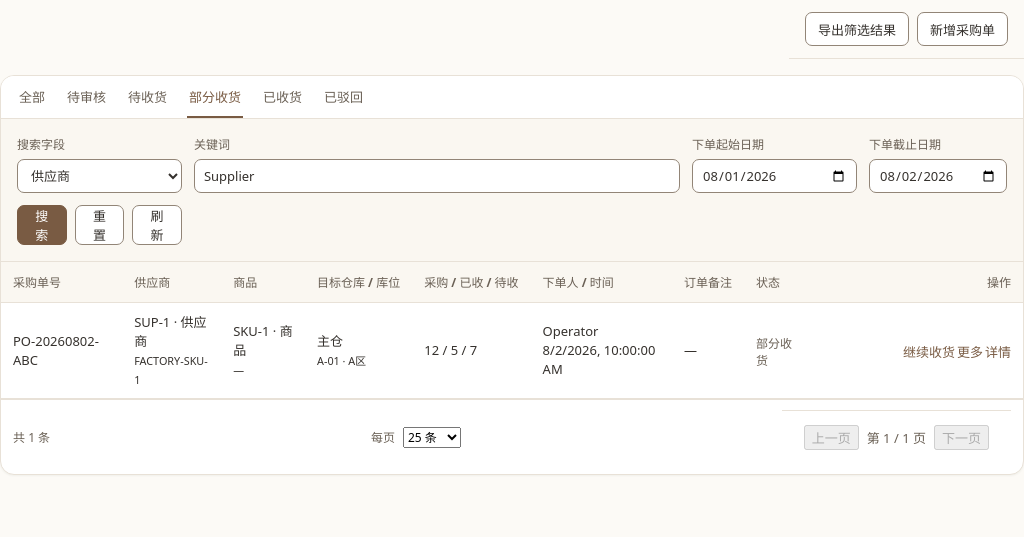
Test: procurement order page › exports the complete filtered result and announces success
This screenshot has width=1024, height=537.
Click the button "导出筛选结果": (857, 29) [805, 12, 909, 46]
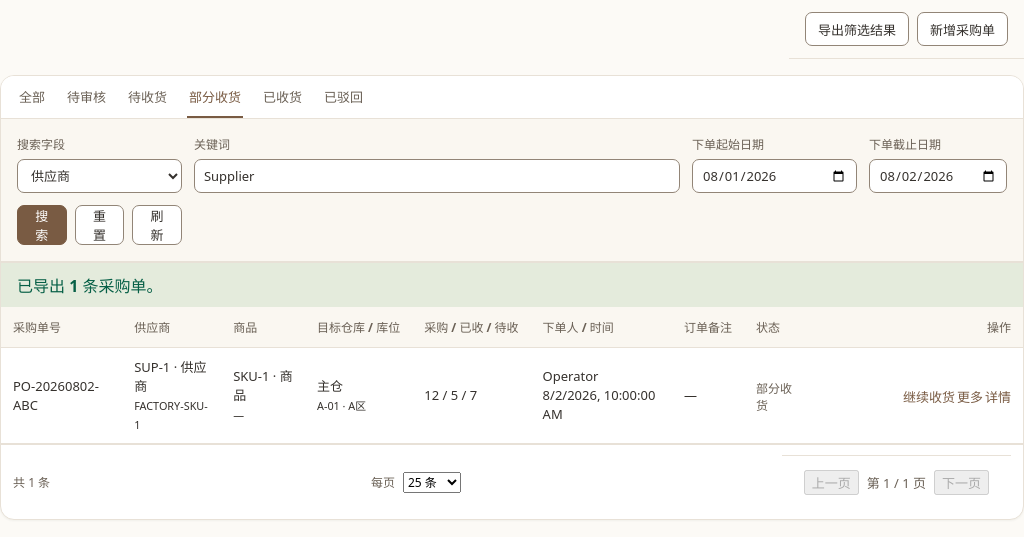
Check: the text "已导出 1 条采购单。" is shown, box [1, 262, 1023, 307]
